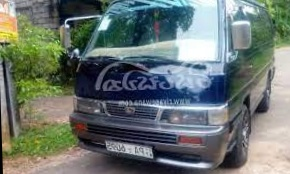van: (53, 0, 283, 174)
